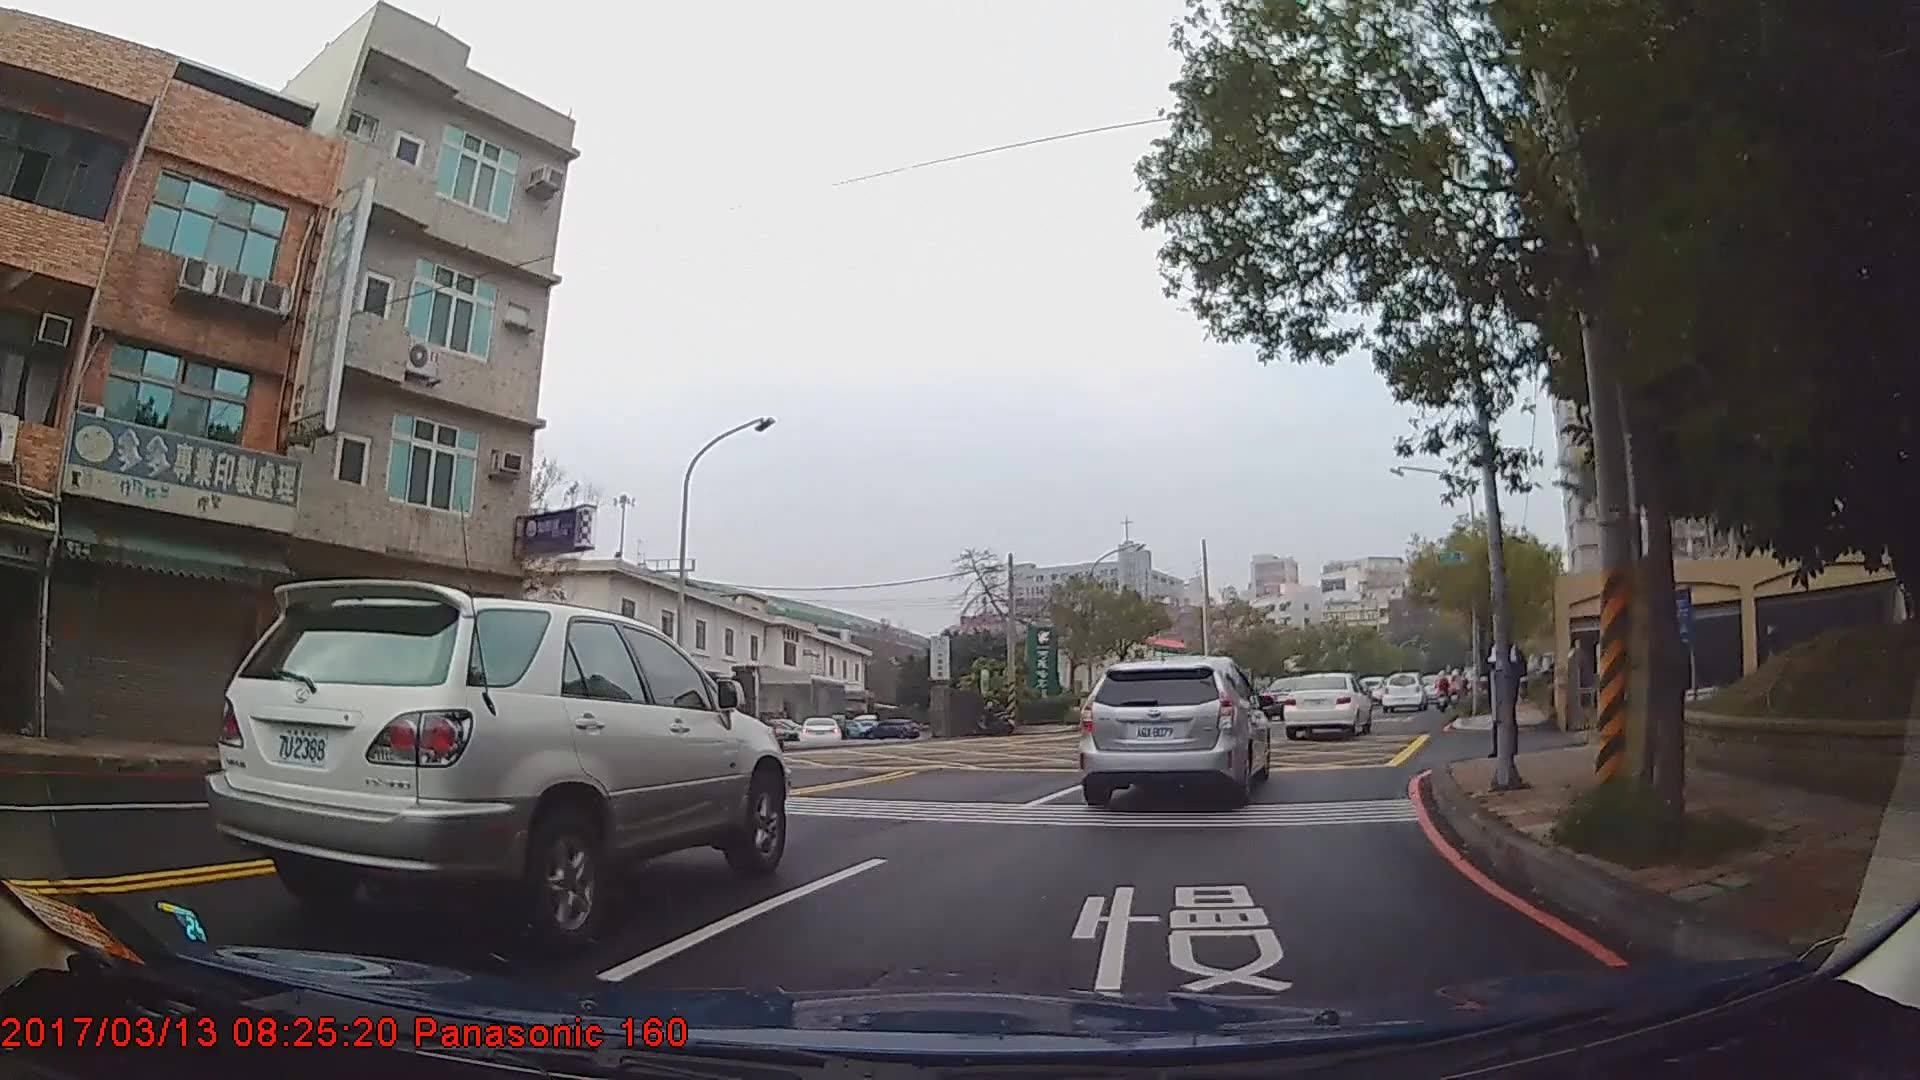pedestrian: (1487, 622, 1529, 758)
vehicle: (200, 577, 788, 945), (1077, 652, 1273, 816), (1281, 672, 1372, 737), (1378, 670, 1428, 713), (862, 718, 923, 740), (798, 716, 843, 745)
